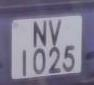0: (31, 46, 48, 78)
1: (18, 46, 31, 80)
2: (46, 44, 63, 78)
5: (61, 43, 78, 76)
N: (30, 16, 50, 53)
V: (47, 18, 65, 49)
